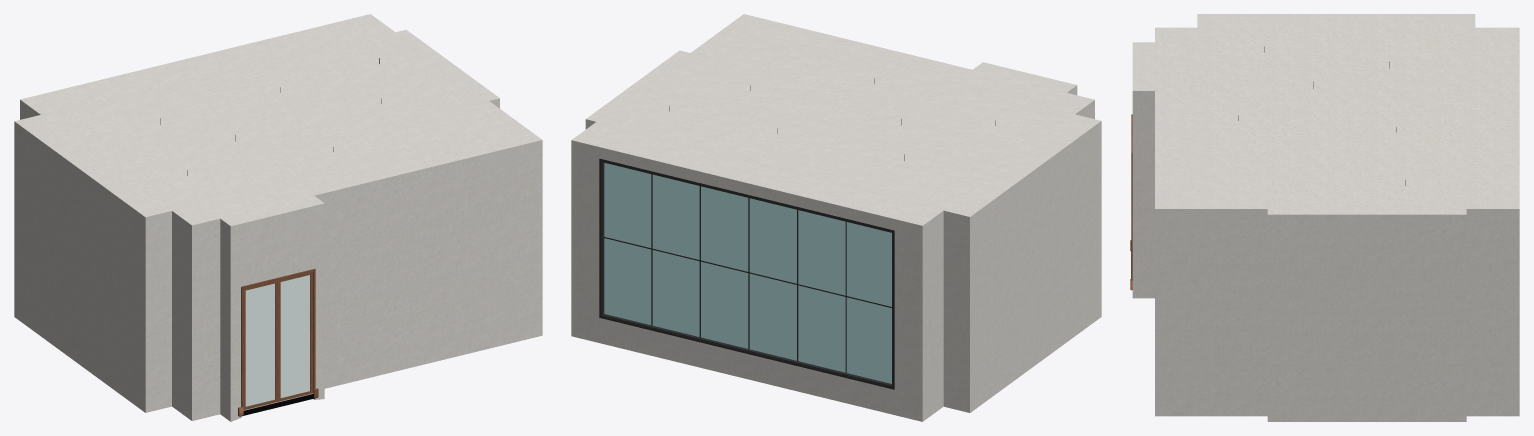
The model's file is scenario-v2.glb.
The picture shows the model from 3 angles, left to right: view 1: azimuth 30°, elevation 25°; view 2: azimuth 150°, elevation 25°; view 3: azimuth 270°, elevation 25°; orthographic projection. The views are drawn at different scales.
Visible parts, largest first — view 1: albero, vetro_porta, battiscopa; view 2: albero, vetro_finestra, vaso_erba; view 3: albero, battiscopa.
Boxes of the visible parts, x1=… form: albero: x1=14, y1=14, x2=542, y2=421; vetro_porta: x1=245, y1=275, x2=309, y2=406; battiscopa: x1=238, y1=268, x2=318, y2=416; albero: x1=571, y1=14, x2=1101, y2=421; vetro_finestra: x1=604, y1=163, x2=891, y2=383; vaso_erba: x1=599, y1=78, x2=995, y2=389; albero: x1=1132, y1=14, x2=1519, y2=421; battiscopa: x1=1130, y1=114, x2=1132, y2=289.
Size of the model in its own units: 9.96 by 4.98 by 8.17.
11 materials, 11 textured.
